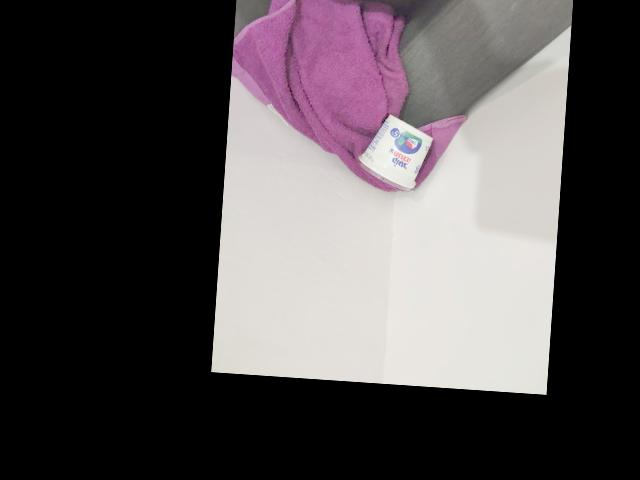cotage: (358, 116, 430, 194)
